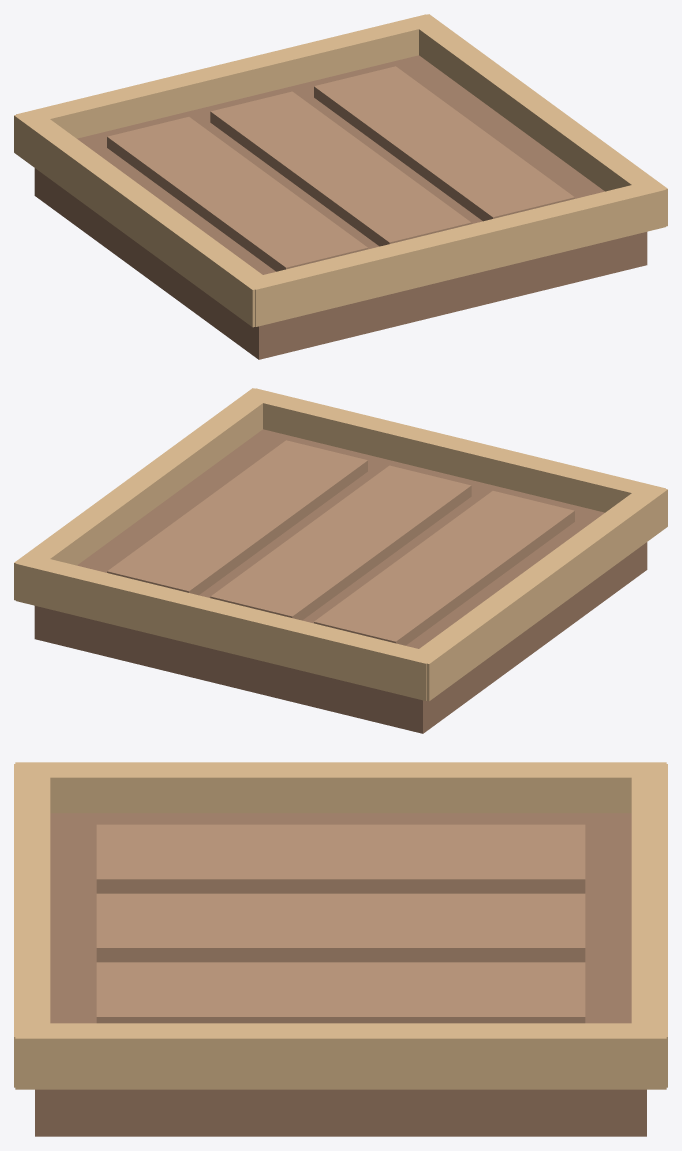
Rendered from plot_empty.glb.
The picture shows the model from 3 angles, top to bottom: view 1: azimuth 30°, elevation 25°; view 2: azimuth 150°, elevation 25°; view 3: azimuth 270°, elevation 25°; orthographic projection. The views are drawn at different scales.
Parts seen in each view (by area): view 1: square soil bed, short timber edge, raised planting row.001, raised planting row, raised planting row.002, short timber edge.001, long timber edge, long timber edge.001; view 2: square soil bed, short timber edge.001, raised planting row.001, raised planting row, raised planting row.002, short timber edge, long timber edge, long timber edge.001; view 3: square soil bed, long timber edge.001, raised planting row, raised planting row.001, long timber edge, raised planting row.002, short timber edge.001, short timber edge.
Boxes of the visible parts, box(x1,y1,x2,y2) form: square soil bed: box(34, 55, 647, 359); short timber edge: box(243, 180, 665, 326); raised planting row.001: box(210, 91, 471, 246); raised planting row: box(107, 117, 367, 271); raised planting row.002: box(314, 66, 574, 221); short timber edge.001: box(16, 14, 437, 138); long timber edge: box(14, 110, 270, 327); long timber edge.001: box(407, 14, 667, 226); square soil bed: box(34, 429, 647, 733); short timber edge.001: box(16, 554, 438, 700); raised planting row.001: box(210, 465, 471, 620); raised planting row: box(314, 491, 574, 645); raised planting row.002: box(107, 440, 367, 595); short timber edge: box(243, 388, 665, 512); long timber edge: box(411, 484, 667, 701); long timber edge.001: box(14, 388, 274, 600); square soil bed: box(35, 813, 646, 1136); long timber edge.001: box(15, 1023, 666, 1089); raised planting row: box(96, 824, 585, 893); raised planting row.001: box(96, 893, 585, 962); long timber edge: box(15, 762, 666, 813); raised planting row.002: box(96, 962, 585, 1023); short timber edge.001: box(631, 764, 667, 1087); short timber edge: box(14, 764, 50, 1087).
Size of the model in its own units: 2.33 by 0.42 by 2.33.
